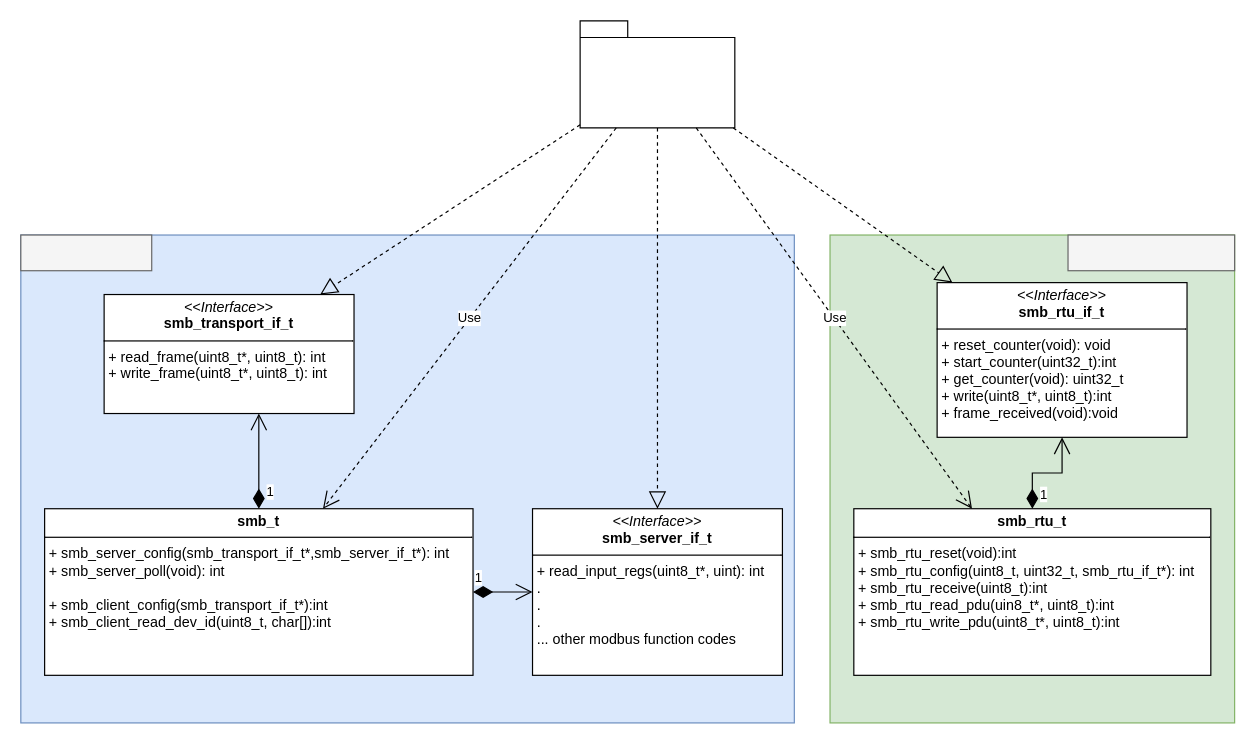
This 1255x744 diagram has some shape labels left out. The shapes that lost their labels are listed below. From the top down, each one's centre as x and y in pixels, then its label:
At [657,74]: "User application".
At [86,252]: "simple_modbus.h".
At [1151,252]: "simple_modbus_rtu.h".
